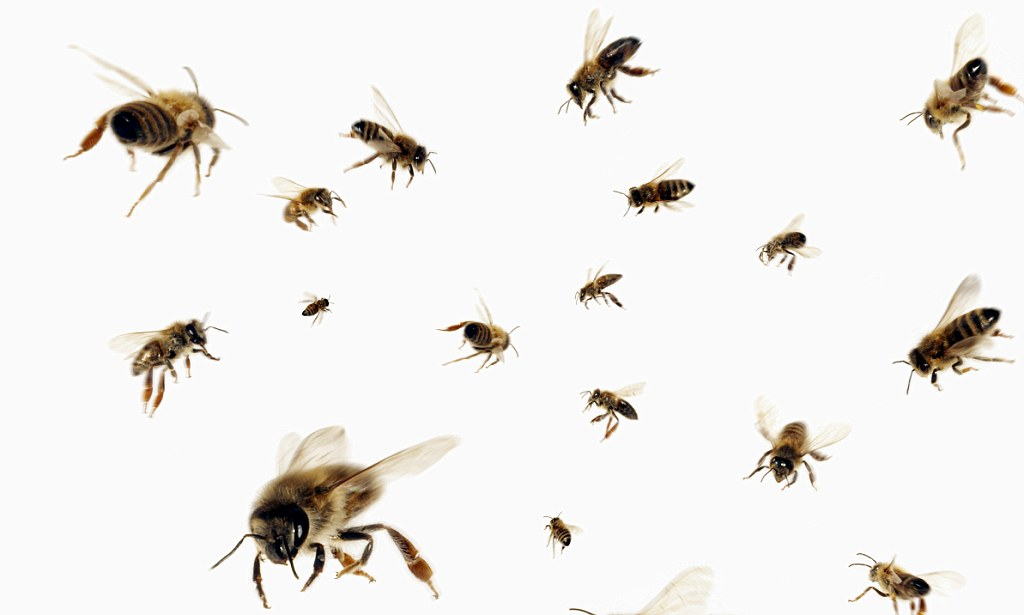insect: (209, 425, 458, 610), (65, 50, 247, 217), (899, 12, 1024, 169), (894, 273, 1015, 396), (557, 6, 665, 125), (114, 308, 226, 416), (743, 395, 853, 492), (345, 83, 443, 191), (432, 285, 523, 376), (848, 551, 958, 614), (258, 175, 345, 235), (613, 157, 695, 218), (756, 212, 822, 274), (583, 382, 647, 440), (574, 261, 626, 313), (539, 509, 583, 557), (300, 288, 336, 323)
